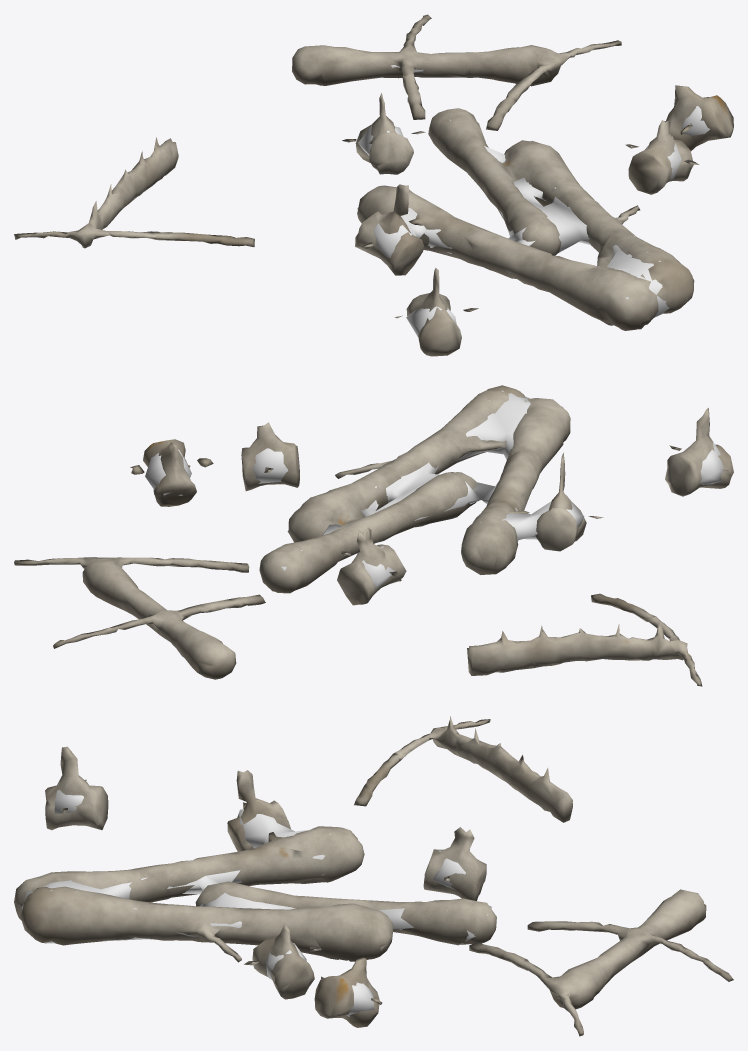
File: PROP_P2_BoneScatter_A.fbx
3 renders of one model, top to bottom at view 1: azimuth 30°, elevation 25°; view 2: azimuth 150°, elevation 25°; view 3: azimuth 270°, elevation 25°, orthographic.
Visible parts, largest first — view 1: PROP_P2_BoneScatter_A_LOD0, PROP_P2_BoneScatter_A_COL; view 2: PROP_P2_BoneScatter_A_LOD0, PROP_P2_BoneScatter_A_COL; view 3: PROP_P2_BoneScatter_A_LOD0, PROP_P2_BoneScatter_A_COL.
Part boxes in pixels (box(x1,y1,x2,y2)): PROP_P2_BoneScatter_A_LOD0: box(14, 14, 733, 356); PROP_P2_BoneScatter_A_COL: box(358, 65, 726, 337); PROP_P2_BoneScatter_A_LOD0: box(14, 385, 733, 686); PROP_P2_BoneScatter_A_COL: box(145, 390, 723, 587); PROP_P2_BoneScatter_A_LOD0: box(14, 716, 733, 1036); PROP_P2_BoneScatter_A_COL: box(22, 781, 491, 1016).
Size of what is drawn, in the model's own units: 3.17 by 0.4494 by 3.06.
